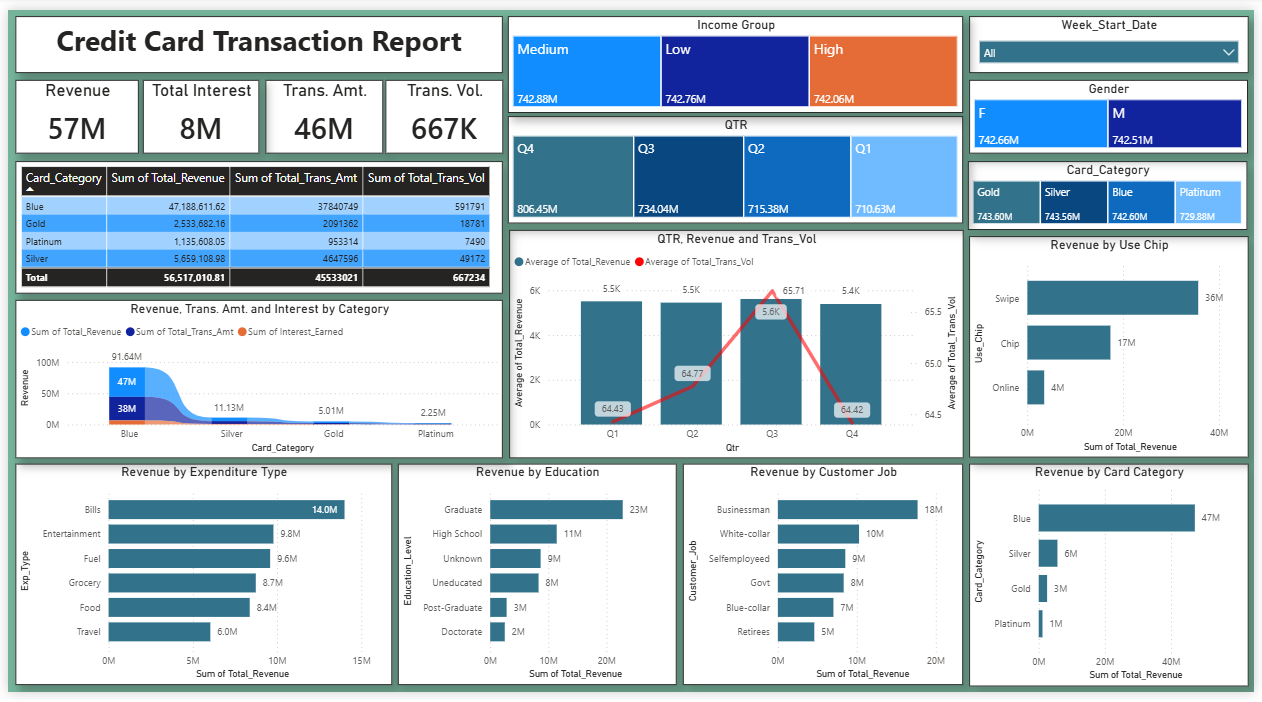

What the dashboard file says about the page in this screenshot:
{"tool":"powerbi","page":{"name":"Credit_Card_Transaction_Report","canvas":[1425,780],"ordinal":1},"visuals":[{"type":"textbox","box":[8,7,557,65],"z":0},{"type":"lineStackedColumnComboChart","title":"QTR, Revenue and Trans_Vol","fields":{"Category":["CreditCard.Qtr"],"Y":["Avg(CreditCard.Total_Revenue)"],"Y2":["Avg(CreditCard.Total_Trans_Vol)"]},"box":[573,251,519,261],"z":1000},{"type":"barChart","title":"Revenue by Expenditure Type","fields":{"Y":["Sum(CreditCard.Total_Revenue)"],"Category":["CreditCard.Exp_Type"]},"box":[8,518,430,253],"z":2000},{"type":"barChart","title":"Revenue by Education","fields":{"Category":["customer.Education_Level"],"Y":["Sum(CreditCard.Total_Revenue)"]},"box":[446,518,318,253],"z":3000},{"type":"barChart","title":"Revenue by Customer Job","fields":{"Y":["Sum(CreditCard.Total_Revenue)"],"Category":["customer.Customer_Job"]},"box":[771,519,320,253],"z":4000},{"type":"barChart","title":"Revenue by Card Category","fields":{"Y":["Sum(CreditCard.Total_Revenue)"],"Category":["CreditCard.Card_Category"]},"box":[1099,518,319,254],"z":5000},{"type":"barChart","title":"Revenue by Use Chip","fields":{"Y":["Sum(CreditCard.Total_Revenue)"],"Category":["CreditCard.Use_Chip"]},"box":[1098,258,319,253],"z":6000},{"type":"cardVisual","title":"Revenue","fields":{"Data":["Sum(CreditCard.Total_Revenue)"]},"box":[8,80,141,84],"z":7000},{"type":"cardVisual","title":"Trans. Amt.","fields":{"Data":["Sum(CreditCard.Total_Trans_Amt)"]},"box":[294,80,134,84],"z":8000},{"type":"cardVisual","title":"Trans. Vol.","fields":{"Data":["Sum(CreditCard.Total_Trans_Vol)"]},"box":[431,80,134,84],"z":9000},{"type":"cardVisual","title":"Total Interest","fields":{"Data":["Sum(CreditCard.Interest_Earned)"]},"box":[154,80,133,84],"z":10000},{"type":"slicer","title":"Week_Start_Date","fields":{"Values":["CreditCard.Week_Start_Date"]},"box":[1098,7,319,65],"z":11000},{"type":"treemap","title":"Card_Category","fields":{"Values":["Avg(CreditCard.Client_Num)"],"Group":["CreditCard.Card_Category"]},"box":[1097,173,319,78],"z":12000},{"type":"tableEx","fields":{"Values":["CreditCard.Card_Category","Sum(CreditCard.Total_Revenue)","Sum(CreditCard.Total_Trans_Amt)","Sum(CreditCard.Total_Trans_Vol)"]},"box":[8,173,557,151],"z":13000},{"type":"treemap","title":"QTR","fields":{"Group":["CreditCard.Qtr"],"Values":["Avg(CreditCard.Client_Num)"]},"box":[571,122,520,122],"z":14000},{"type":"treemap","title":"Income Group","fields":{"Group":["customer.Income_Group"],"Values":["Avg(CreditCard.Client_Num)"]},"box":[572,7,520,110],"z":15000},{"type":"treemap","title":"Gender","fields":{"Values":["Avg(CreditCard.Client_Num)"],"Group":["customer.Gender"]},"box":[1098,80,318,84],"z":16000},{"type":"ribbonChart","title":"Revenue, Trans. Amt. and Interest by Category","fields":{"Category":["CreditCard.Card_Category"],"Y":["Sum(CreditCard.Total_Revenue)","Sum(CreditCard.Total_Trans_Amt)","Sum(CreditCard.Interest_Earned)"]},"box":[8,331,557,181],"z":17000}]}

Visuals, with their boxes in screenshot pixels (x1, y1, x2, y2), scaled from the page's 1425x780 canvas onto the 1262x702 screenshot:
textbox: {"x1": 7, "y1": 6, "x2": 500, "y2": 65}
"QTR, Revenue and Trans_Vol" lineStackedColumnComboChart: {"x1": 507, "y1": 226, "x2": 967, "y2": 461}
"Revenue by Expenditure Type" barChart: {"x1": 7, "y1": 466, "x2": 388, "y2": 694}
"Revenue by Education" barChart: {"x1": 395, "y1": 466, "x2": 677, "y2": 694}
"Revenue by Customer Job" barChart: {"x1": 683, "y1": 467, "x2": 966, "y2": 695}
"Revenue by Card Category" barChart: {"x1": 973, "y1": 466, "x2": 1256, "y2": 695}
"Revenue by Use Chip" barChart: {"x1": 972, "y1": 232, "x2": 1255, "y2": 460}
"Revenue" cardVisual: {"x1": 7, "y1": 72, "x2": 132, "y2": 148}
"Trans. Amt." cardVisual: {"x1": 260, "y1": 72, "x2": 379, "y2": 148}
"Trans. Vol." cardVisual: {"x1": 382, "y1": 72, "x2": 500, "y2": 148}
"Total Interest" cardVisual: {"x1": 136, "y1": 72, "x2": 254, "y2": 148}
"Week_Start_Date" slicer: {"x1": 972, "y1": 6, "x2": 1255, "y2": 65}
"Card_Category" treemap: {"x1": 972, "y1": 156, "x2": 1254, "y2": 226}
tableEx - CreditCard.Card_Category x Sum(CreditCard.Total_Revenue): {"x1": 7, "y1": 156, "x2": 500, "y2": 292}
"QTR" treemap: {"x1": 506, "y1": 110, "x2": 966, "y2": 220}
"Income Group" treemap: {"x1": 507, "y1": 6, "x2": 967, "y2": 105}
"Gender" treemap: {"x1": 972, "y1": 72, "x2": 1254, "y2": 148}
"Revenue, Trans. Amt. and Interest by Category" ribbonChart: {"x1": 7, "y1": 298, "x2": 500, "y2": 461}
